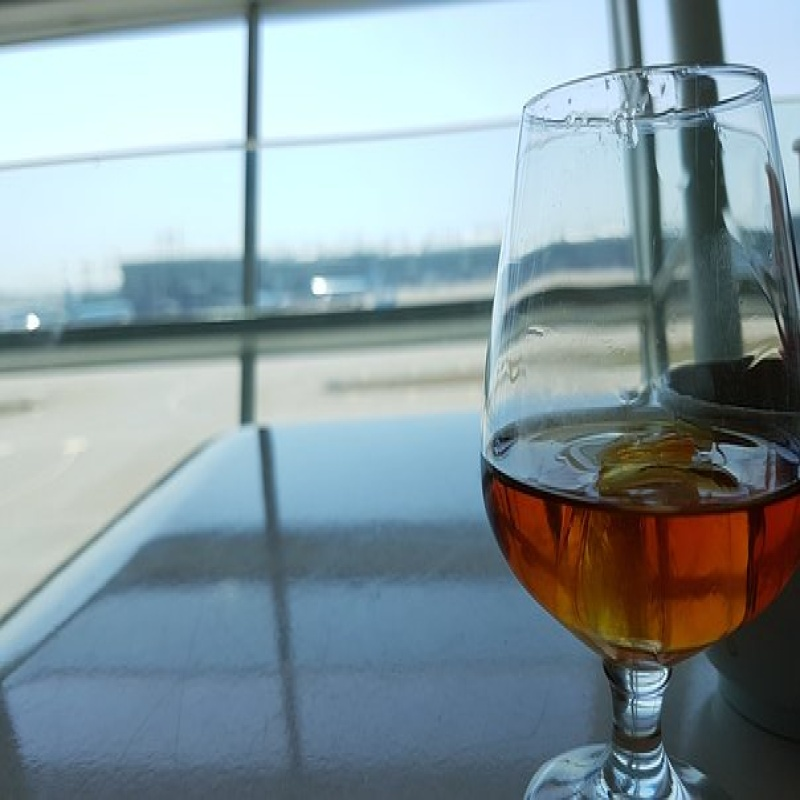whiskey: (497, 63, 791, 671)
